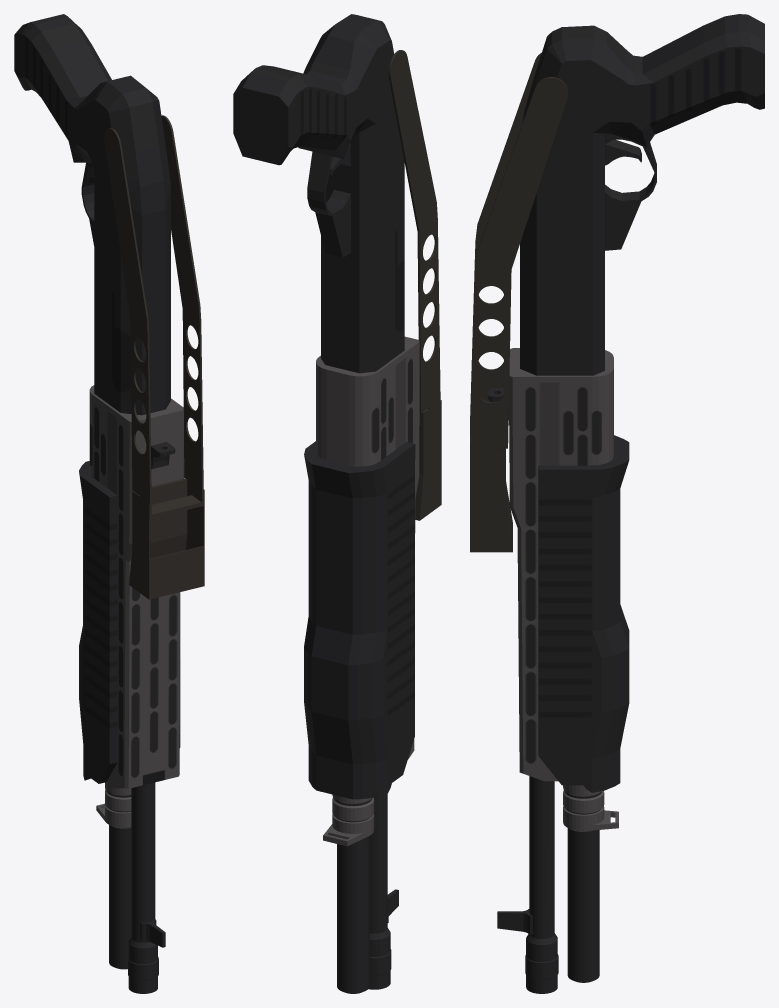
The model's file is spas12foldedstock.fbx.
The picture shows the model from 3 angles, left to right: view 1: azimuth 30°, elevation 25°; view 2: azimuth 150°, elevation 25°; view 3: azimuth 270°, elevation 25°; orthographic projection. The views are drawn at different scales.
Visible parts, largest first — view 1: SPAS-12; view 2: SPAS-12; view 3: SPAS-12.
Part boxes in pixels (left/top/right/bottom): SPAS-12: left=14, top=14, right=204, bottom=993; SPAS-12: left=233, top=14, right=441, bottom=993; SPAS-12: left=470, top=14, right=764, bottom=993.
Bounding box in the file's own units: 0.0361 × 0.4388 × 0.1216.
